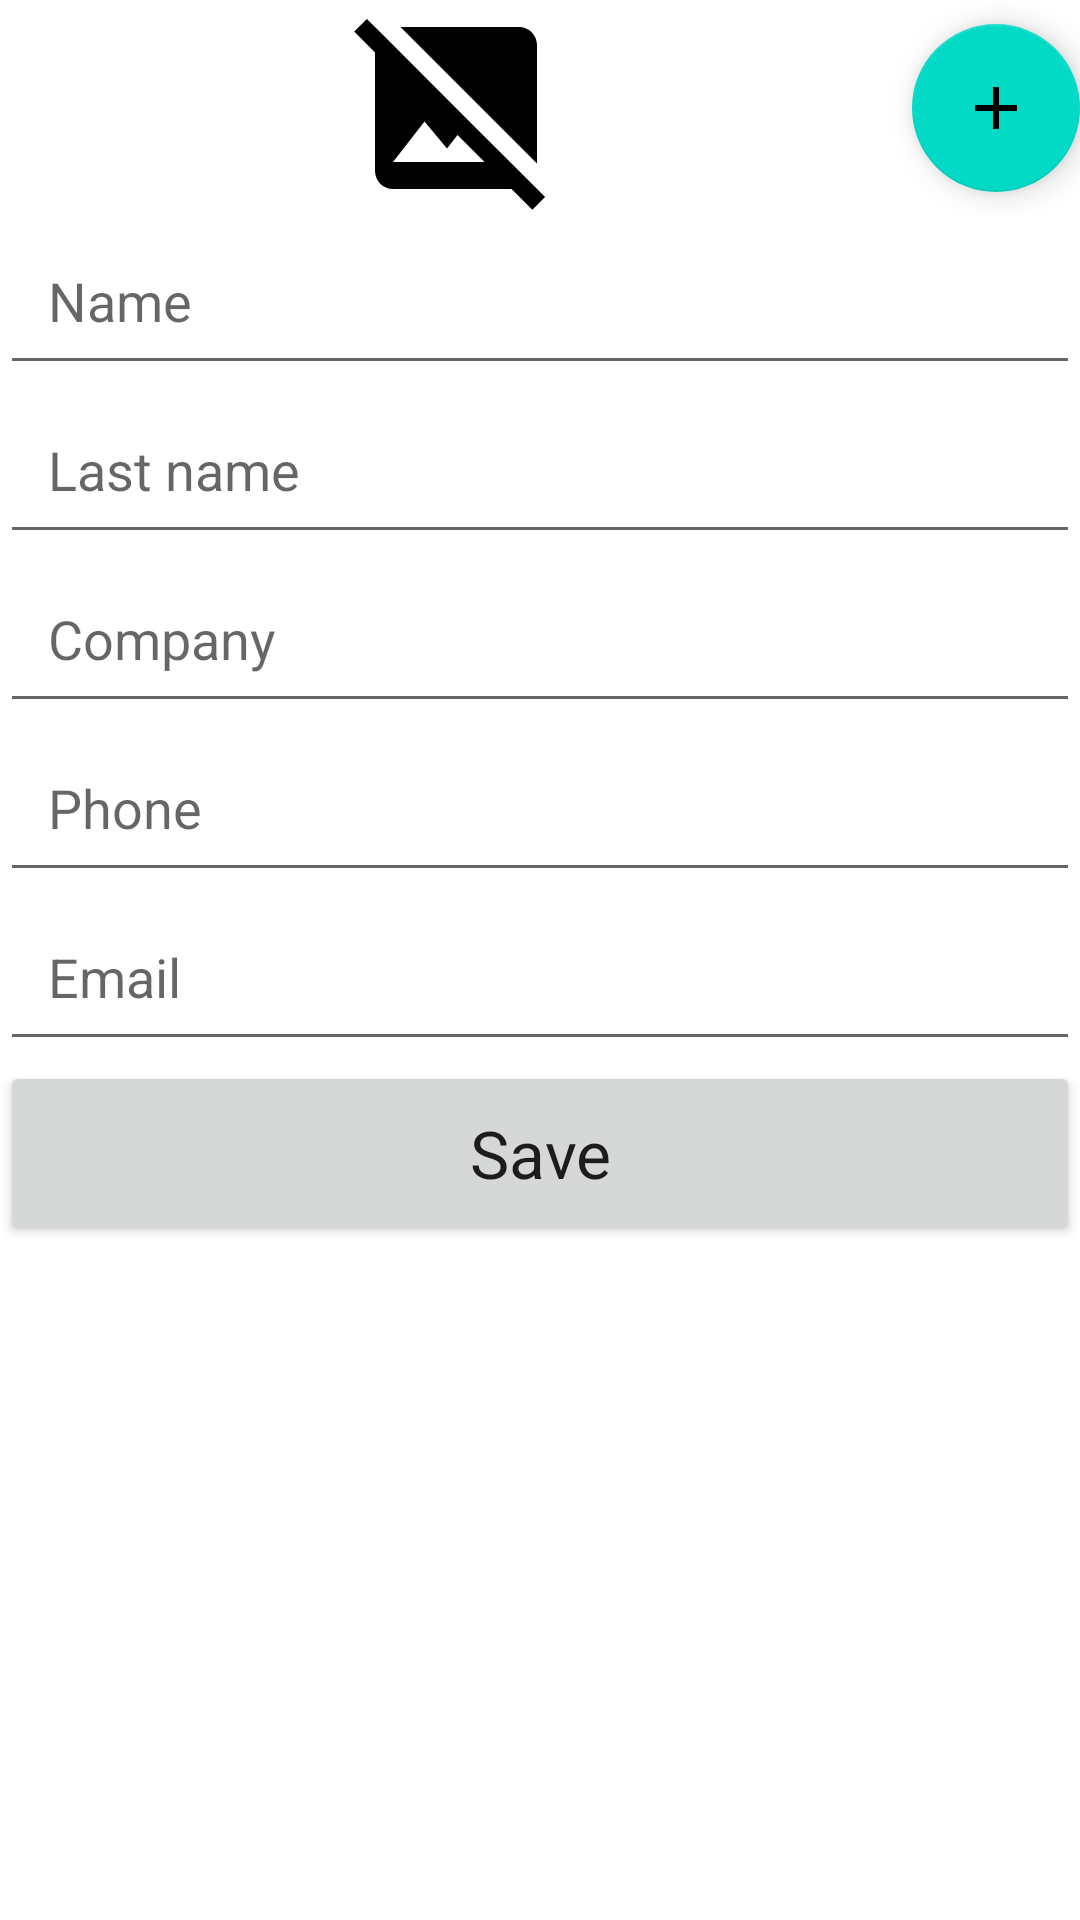

Icons on this 1080w x 1920h Android screen, each with its box as (x1, y1, x2, y2):
Добавить: (912, 24, 1080, 192)
